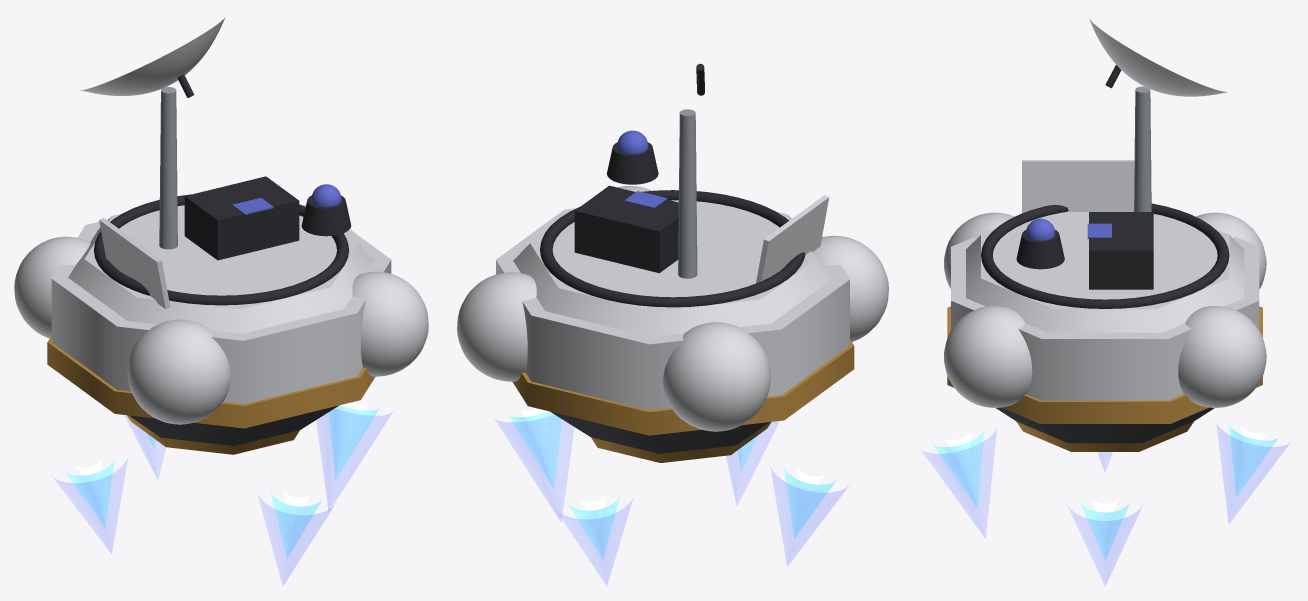
Rendered from player-robot-1.glb.
The picture shows the model from 3 angles, left to right: view 1: azimuth 30°, elevation 25°; view 2: azimuth 150°, elevation 25°; view 3: azimuth 270°, elevation 25°; orthographic projection. The views are drawn at different scales.
Parts seen in each view (by area): view 1: deck_plate, hull_core, tank_2, avionics_box, foil_skirt, tank_1, deck_ring, tank_3, plume_outer_1, comms_dish, hull_belly, mast (+11 smaller); view 2: deck_plate, hull_core, tank_3, foil_skirt, avionics_box, tank_4, deck_ring, plume_outer_1, tank_2, hull_belly, mast, plume_outer_3 (+10 smaller); view 3: deck_plate, hull_core, tank_1, tank_4, radiator_panel, deck_ring, avionics_box, foil_skirt, plume_outer_2, plume_outer_4, hull_belly, comms_dish (+11 smaller).
Boxes of the visible parts, left/top/right/bottom form: deck_plate: left=68, top=204, right=374, bottom=333; hull_core: left=51, top=219, right=391, bottom=404; tank_2: left=127, top=319, right=230, bottom=424; avionics_box: left=184, top=176, right=299, bottom=260; foil_skirt: left=47, top=336, right=375, bottom=428; tank_1: left=352, top=271, right=428, bottom=376; deck_ring: left=93, top=194, right=349, bottom=305; tank_3: left=14, top=236, right=90, bottom=338; plume_outer_1: left=316, top=408, right=392, bottom=510; comms_dish: left=80, top=18, right=224, bottom=95; hull_belly: left=129, top=405, right=338, bottom=445; mast: left=159, top=87, right=177, bottom=249; deck_plate: left=513, top=200, right=832, bottom=336; hull_core: left=496, top=208, right=849, bottom=410; tank_3: left=663, top=322, right=770, bottom=431; foil_skirt: left=512, top=339, right=854, bottom=435; avionics_box: left=574, top=185, right=678, bottom=273; tank_4: left=457, top=272, right=536, bottom=381; deck_ring: left=540, top=190, right=805, bottom=307; plume_outer_1: left=495, top=415, right=573, bottom=522; tank_2: left=814, top=235, right=888, bottom=341; hull_belly: left=550, top=411, right=769, bottom=453; mast: left=678, top=109, right=697, bottom=278; plume_outer_3: left=770, top=466, right=849, bottom=566; deck_plate: left=966, top=204, right=1244, bottom=332; hull_core: left=951, top=237, right=1259, bottom=400; tank_1: left=944, top=306, right=1032, bottom=407; tank_4: left=1178, top=306, right=1266, bottom=407; radiator_panel: left=1022, top=160, right=1134, bottom=213; deck_ring: left=981, top=203, right=1229, bottom=308; avionics_box: left=1089, top=212, right=1153, bottom=289; foil_skirt: left=947, top=306, right=1262, bottom=423; plume_outer_2: left=920, top=429, right=996, bottom=538; plume_outer_4: left=1216, top=423, right=1290, bottom=523; hull_belly: left=996, top=407, right=1214, bottom=443; comms_dish: left=1089, top=19, right=1227, bottom=96.
Bounding box in the file's own units: 1.4 × 2.07 × 1.4.
